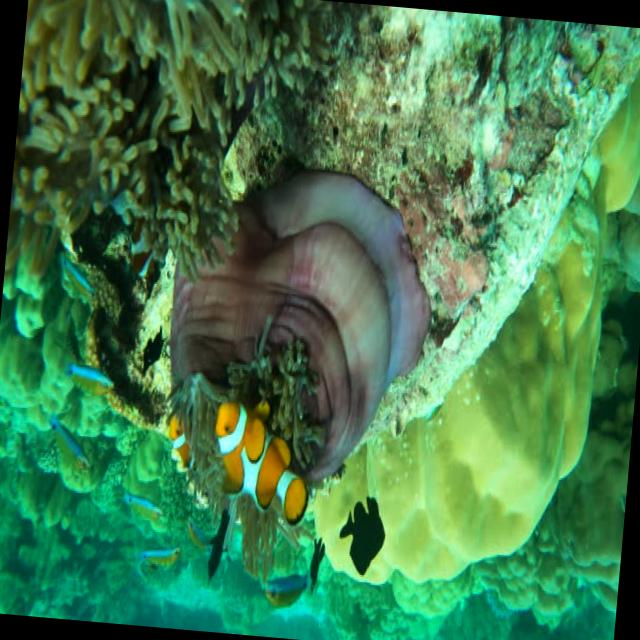ClownFish: (210, 388, 314, 534), (162, 416, 195, 482)
